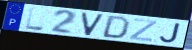2: (50, 9, 78, 35)
D: (100, 15, 132, 40)
J: (159, 22, 182, 44)
L: (25, 6, 45, 32)
V: (80, 12, 106, 37)
Z: (128, 18, 159, 43)
